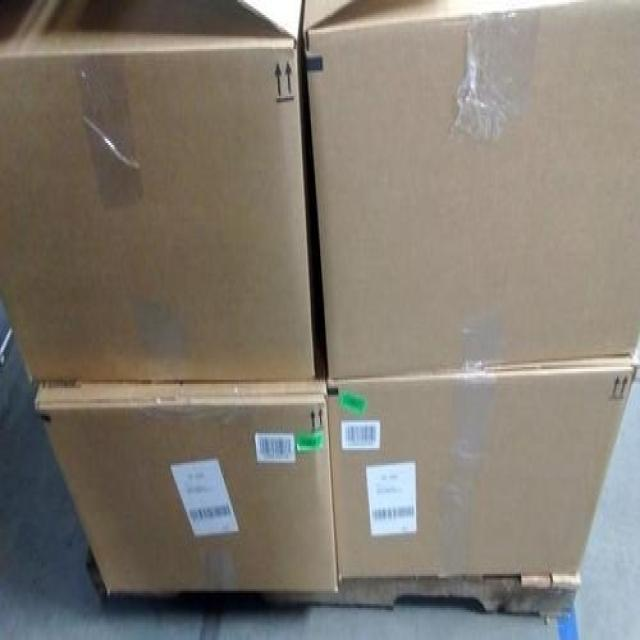Carton: (306, 2, 637, 373), (0, 43, 312, 380), (326, 369, 635, 578), (36, 393, 335, 595)
